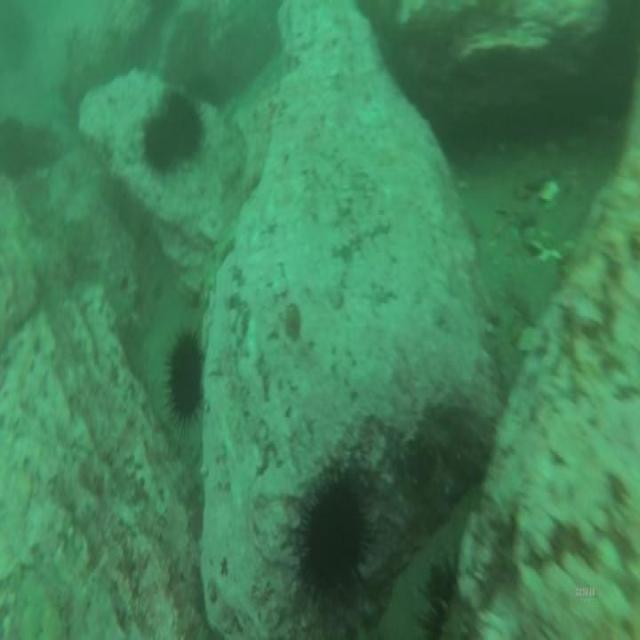echinus: (292, 463, 376, 612), (159, 326, 205, 432), (414, 553, 463, 640), (164, 84, 209, 160), (140, 108, 180, 176), (0, 114, 31, 185)
